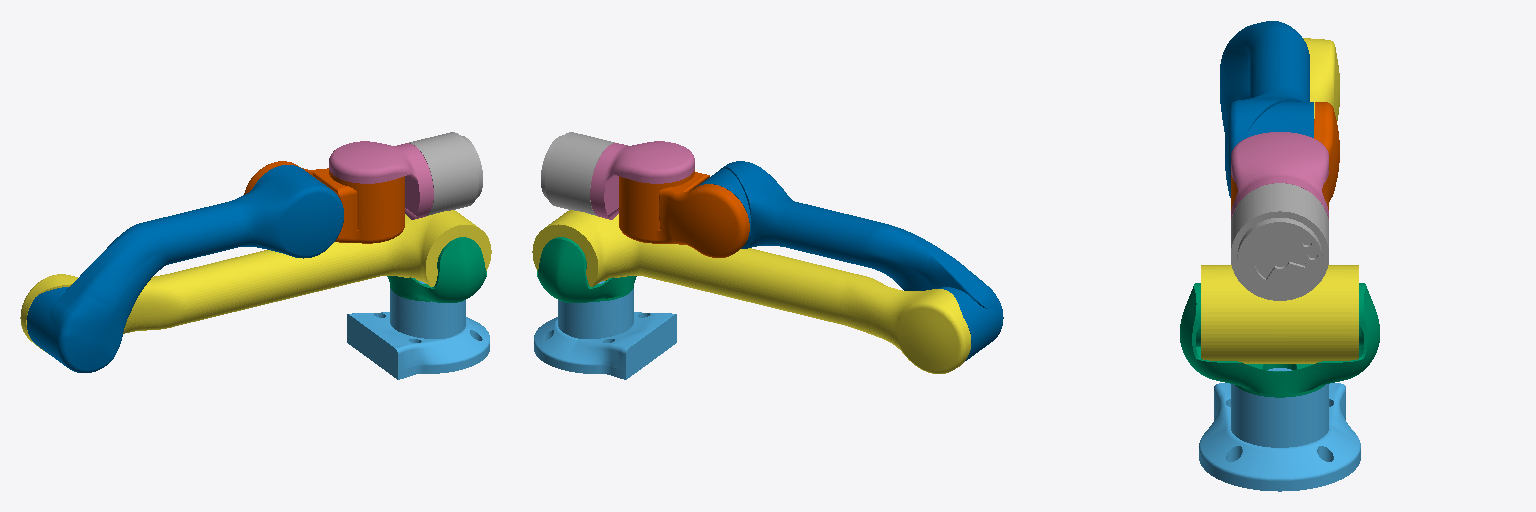
robot.urdf — z1_description:
<?xml version="1.0" ?>
<!-- =================================================================================== -->
<!-- |    This document was autogenerated by xacro from robot.xacro                    | -->
<!-- |    EDITING THIS FILE BY HAND IS NOT RECOMMENDED                                 | -->
<!-- =================================================================================== -->
<robot name="z1_description">
 <mujoco>
         <compiler 
         meshdir="../meshes/" 
         balanceinertia="true" 
         discardvisual="false" />
 </mujoco>
  <!-- ros_control plugin -->
  <gazebo>
    <plugin filename="libgazebo_ros_control.so" name="gazebo_ros_control">
      <robotNamespace>/z1_gazebo</robotNamespace>
      <robotSimType>gazebo_ros_control/DefaultRobotHWSim</robotSimType>
    </plugin>
  </gazebo>
  <gazebo reference="link04">
    <self_collide>true</self_collide>
  </gazebo>
  <gazebo reference="link05">
    <self_collide>true</self_collide>
  </gazebo>
  <gazebo reference="link06">
    <self_collide>true</self_collide>
  </gazebo>
  <link name="world"/>
  <joint name="base_static_joint" type="fixed">
    <origin rpy="0 0 0" xyz="0 0 0"/>
    <parent link="world"/>
    <child link="link00"/>
  </joint>
  <link name="link00">
    <visual>
      <origin rpy="0 0 0" xyz="0 0 0"/>
      <geometry>
        <mesh filename="package://z1_description/meshes/z1_Link00.stl" scale="1 1 1"/>
      </geometry>
    </visual>
    <collision>
      <geometry>
        <cylinder length="0.051" radius="0.0325"/>
      </geometry>
      <origin rpy="0 0 0" xyz="0 0 0.0255"/>
    </collision>
    <inertial>
      <origin rpy="0 0 0" xyz="-0.00334984 -0.00013615 0.02495843"/>
      <mass value="0.47247481"/>
      <inertia ixx="0.00037937" ixy="3.5e-07" ixz="1.037e-05" iyy="0.00041521" iyz="9.9e-07" izz="0.00053066"/>
    </inertial>
  </link>
  <joint name="joint1" type="revolute">
    <origin rpy="0 0 0" xyz="0 0 0.0585"/>
    <parent link="link00"/>
    <child link="link01"/>
    <axis xyz="0 0 1"/>
    <dynamics damping="1.0" friction="1.0"/>
    <limit effort="30.0" lower="-2.6179938779914944" upper="2.6179938779914944" velocity="10"/>
  </joint>
  <link name="link01">
    <visual>
      <origin rpy="0 0 0" xyz="0 0 0"/>
      <geometry>
        <mesh filename="package://z1_description/meshes/z1_Link01.stl" scale="1 1 1"/>
      </geometry>
    </visual>
    <!-- <collision>
            <geometry>
                <cylinder length="${2*motor_height}" radius="${motor_diameter}"/>
            </geometry>
            <origin rpy="0 0 0" xyz="0 0 0"/>
        </collision> -->
    <inertial>
      <origin rpy="0 0 0" xyz="2.47e-06 -0.00025198 0.02317169"/>
      <mass value="0.67332551"/>
      <inertia ixx="0.00128328" ixy="6e-08" ixz="4e-07" iyy="0.00071931" iyz="-5e-07" izz="0.00083936"/>
    </inertial>
  </link>
  <joint name="joint2" type="revolute">
    <origin rpy="0 0 0" xyz="0 0 0.045"/>
    <parent link="link01"/>
    <child link="link02"/>
    <axis xyz="0 1 0"/>
    <dynamics damping="2.0" friction="2.0"/>
    <limit effort="60.0" lower="0.0" upper="3.141592653589793" velocity="10"/>
  </joint>
  <link name="link02">
    <visual>
      <origin rpy="0 0 0" xyz="0 0 0"/>
      <geometry>
        <mesh filename="package://z1_description/meshes/z1_Link02.stl" scale="1 1 1"/>
      </geometry>
    </visual>
    <collision>
      <geometry>
        <cylinder length="0.102" radius="0.0325"/>
      </geometry>
      <origin rpy="1.5707963267948966 0 0" xyz="0 0 0"/>
    </collision>
    <collision>
      <geometry>
        <cylinder length="0.235" radius="0.0225"/>
      </geometry>
      <origin rpy="0 1.5707963267948966 0" xyz="-0.16249999999999998 0 0"/>
    </collision>
    <collision>
      <geometry>
        <cylinder length="0.051" radius="0.0325"/>
      </geometry>
      <origin rpy="1.5707963267948966 0 0" xyz="-0.35 0 0"/>
    </collision>
    <inertial>
      <origin rpy="0 0 0" xyz="-0.11012601 0.00240029 0.00158266"/>
      <mass value="1.19132258"/>
      <inertia ixx="0.00102138" ixy="-0.00062358" ixz="-5.13e-06" iyy="0.02429457" iyz="2.1e-06" izz="0.02466114"/>
    </inertial>
  </link>
  <joint name="joint3" type="revolute">
    <origin rpy="0 0 0" xyz="-0.35 0 0"/>
    <parent link="link02"/>
    <child link="link03"/>
    <axis xyz="0 1 0"/>
    <dynamics damping="1.0" friction="1.0"/>
    <limit effort="30.0" lower="-4.782202150464463" upper="0.0" velocity="10"/>
  </joint>
  <link name="link03">
    <visual>
      <origin rpy="0 0 0" xyz="0 0 0"/>
      <geometry>
        <mesh filename="package://z1_description/meshes/z1_Link03.stl" scale="1 1 1"/>
      </geometry>
    </visual>
    <collision>
      <geometry>
        <cylinder length="0.116" radius="0.02"/>
      </geometry>
      <origin rpy="0 1.5707963267948966 0" xyz="0.128 0 0.055"/>
    </collision>
    <collision>
      <geometry>
        <cylinder length="0.059" radius="0.0325"/>
      </geometry>
      <origin rpy="0 1.5707963267948966 0" xyz="0.2205 0 0.055"/>
    </collision>
    <inertial>
      <origin rpy="0 0 0" xyz="0.10609208 -0.00541815 0.03476383"/>
      <mass value="0.83940874"/>
      <inertia ixx="0.00108061" ixy="8.669e-05" ixz="0.00208102" iyy="0.00954238" iyz="1.332e-05" izz="0.00886621"/>
    </inertial>
  </link>
  <joint name="joint4" type="revolute">
    <origin rpy="0 0 0" xyz="0.218 0 0.057"/>
    <parent link="link03"/>
    <child link="link04"/>
    <axis xyz="0 1 0"/>
    <dynamics damping="1.0" friction="1.0"/>
    <limit effort="30.0" lower="-1.7453292519943295" upper="1.5707963267948966" velocity="10"/>
  </joint>
  <link name="link04">
    <visual>
      <origin rpy="0 0 0" xyz="0 0 0"/>
      <geometry>
        <mesh filename="package://z1_description/meshes/z1_Link04.stl" scale="1 1 1"/>
      </geometry>
    </visual>
    <collision>
      <geometry>
        <cylinder length="0.073" radius="0.0325"/>
      </geometry>
      <origin rpy="1.5707963267948966 0 0" xyz="0.0472 0 0"/>
    </collision>
    <inertial>
      <origin rpy="0 0 0" xyz="0.04366681 0.00364738 -0.00170192"/>
      <mass value="0.56404563"/>
      <inertia ixx="0.00031576" ixy="-8.13e-05" ixz="-4.091e-05" iyy="0.00092996" iyz="5.96e-06" izz="0.00097912"/>
    </inertial>
  </link>
  <joint name="joint5" type="revolute">
    <origin rpy="0 0 0" xyz="0.07 0.0 0.0"/>
    <parent link="link04"/>
    <child link="link05"/>
    <axis xyz="0 0 1"/>
    <dynamics damping="1.0" friction="1.0"/>
    <limit effort="30.0" lower="-1.7278759594743864" upper="1.7278759594743864" velocity="10"/>
  </joint>
  <link name="link05">
    <visual>
      <origin rpy="0 0 0" xyz="0 0 0"/>
      <geometry>
        <mesh filename="package://z1_description/meshes/z1_Link05.stl" scale="1 1 1"/>
      </geometry>
    </visual>
    <inertial>
      <origin rpy="0 0 0" xyz="0.03121533 0.0 0.00646316"/>
      <mass value="0.38938492"/>
      <inertia ixx="0.00017605" ixy="-4e-07" ixz="-5.689e-05" iyy="0.00055896" iyz="1.3e-07" izz="0.0005386"/>
    </inertial>
  </link>
  <joint name="joint6" type="revolute">
    <origin rpy="0 0 0" xyz="0.0492 0.0 0.0"/>
    <parent link="link05"/>
    <child link="link06"/>
    <axis xyz="1 0 0"/>
    <dynamics damping="1.0" friction="1.0"/>
    <limit effort="30.0" lower="-2.792526803190927" upper="2.792526803190927" velocity="10"/>
  </joint>
  <link name="link06">
    <visual>
      <origin rpy="0 0 0" xyz="0 0 0"/>
      <geometry>
        <mesh filename="package://z1_description/meshes/z1_Link06.stl" scale="1 1 1"/>
      </geometry>
    </visual>
    <collision>
      <geometry>
        <cylinder length="0.051" radius="0.0325"/>
      </geometry>
      <origin rpy="0 1.5707963267948966 0" xyz="0.0255 0 0"/>
    </collision>
    <inertial>
      <origin rpy="0 0 0" xyz="0.0241569 -0.00017355 -0.00143876"/>
      <mass value="0.28875807"/>
      <inertia ixx="0.00018328" ixy="-1.22e-06" ixz="-5.4e-07" iyy="0.0001475" iyz="-8e-08" izz="0.0001468"/>
    </inertial>
  </link>
  <transmission name="JointTrans1">
    <type>transmission_interface/SimpleTransmission</type>
    <joint name="joint1">
      <hardwareInterface>hardware_interface/EffortJointInterface</hardwareInterface>
    </joint>
    <actuator name="Actuator1">
      <hardwareInterface>hardware_interface/EffortJointInterface</hardwareInterface>
      <mechanicalReduction>1</mechanicalReduction>
    </actuator>
  </transmission>
  <transmission name="JointTrans2">
    <type>transmission_interface/SimpleTransmission</type>
    <joint name="joint2">
      <hardwareInterface>hardware_interface/EffortJointInterface</hardwareInterface>
    </joint>
    <actuator name="Actuator2">
      <hardwareInterface>hardware_interface/EffortJointInterface</hardwareInterface>
      <mechanicalReduction>1</mechanicalReduction>
    </actuator>
  </transmission>
  <transmission name="JointTrans3">
    <type>transmission_interface/SimpleTransmission</type>
    <joint name="joint3">
      <hardwareInterface>hardware_interface/EffortJointInterface</hardwareInterface>
    </joint>
    <actuator name="Actuator3">
      <hardwareInterface>hardware_interface/EffortJointInterface</hardwareInterface>
      <mechanicalReduction>1</mechanicalReduction>
    </actuator>
  </transmission>
  <transmission name="JointTrans4">
    <type>transmission_interface/SimpleTransmission</type>
    <joint name="joint4">
      <hardwareInterface>hardware_interface/EffortJointInterface</hardwareInterface>
    </joint>
    <actuator name="Actuator4">
      <hardwareInterface>hardware_interface/EffortJointInterface</hardwareInterface>
      <mechanicalReduction>1</mechanicalReduction>
    </actuator>
  </transmission>
  <transmission name="JointTrans5">
    <type>transmission_interface/SimpleTransmission</type>
    <joint name="joint5">
      <hardwareInterface>hardware_interface/EffortJointInterface</hardwareInterface>
    </joint>
    <actuator name="Actuator5">
      <hardwareInterface>hardware_interface/EffortJointInterface</hardwareInterface>
      <mechanicalReduction>1</mechanicalReduction>
    </actuator>
  </transmission>
  <transmission name="JointTrans6">
    <type>transmission_interface/SimpleTransmission</type>
    <joint name="joint6">
      <hardwareInterface>hardware_interface/EffortJointInterface</hardwareInterface>
    </joint>
    <actuator name="Actuator6">
      <hardwareInterface>hardware_interface/EffortJointInterface</hardwareInterface>
      <mechanicalReduction>1</mechanicalReduction>
    </actuator>
  </transmission>
</robot>

--- Facts derived from the render (not from the file) ---
Views: 3 orthographic renders of the robot side by side, from view 1: azimuth 30°, elevation 25°; view 2: azimuth 150°, elevation 25°; view 3: azimuth 270°, elevation 25°.
Robot: z1_description — 8 links, 7 joints (6 revolute, 1 fixed); root link world; default pose: all joints at 0.
Visible links, largest first — view 1: link03, link02, link00, link04, link05, link06, link01; view 2: link02, link03, link00, link04, link05, link06, link01; view 3: link02, link00, link03, link06, link01, link05, link04.
Boxes of the visible links, box(x1,y1,x2,y2) form: link03: box(27, 165, 343, 372); link02: box(20, 210, 491, 352); link00: box(347, 281, 489, 379); link04: box(244, 161, 404, 243); link05: box(329, 141, 433, 219); link06: box(409, 132, 482, 215); link01: box(387, 237, 486, 302); link02: box(532, 210, 970, 373); link03: box(694, 161, 1003, 360); link00: box(534, 281, 676, 379); link04: box(619, 170, 749, 257); link05: box(590, 141, 694, 219); link06: box(541, 132, 614, 215); link01: box(537, 237, 636, 302); link02: box(1201, 38, 1358, 363); link00: box(1199, 368, 1360, 491); link03: box(1220, 21, 1313, 197); link06: box(1231, 183, 1328, 300); link01: box(1180, 283, 1379, 397); link05: box(1231, 132, 1328, 218); link04: box(1231, 102, 1339, 209).
Size in the robot's own frame: 0.4357 by 0.1319 by 0.198 metres.
Meshes: 7 distinct files referenced, 7 mesh visuals loaded (7 binary STL).